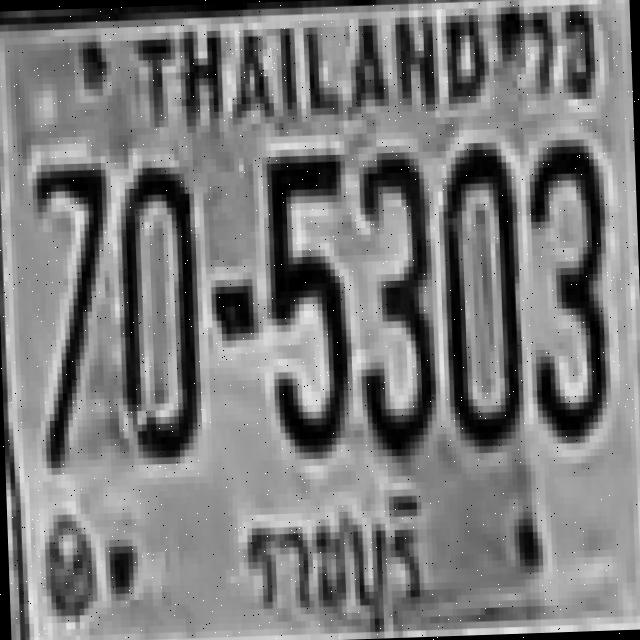0: (109, 163, 198, 455), (436, 138, 520, 444)
3: (349, 145, 433, 450), (524, 132, 608, 437)
5: (261, 148, 350, 454)
7: (31, 156, 111, 461)
Ratchaburi: (233, 488, 434, 637)
